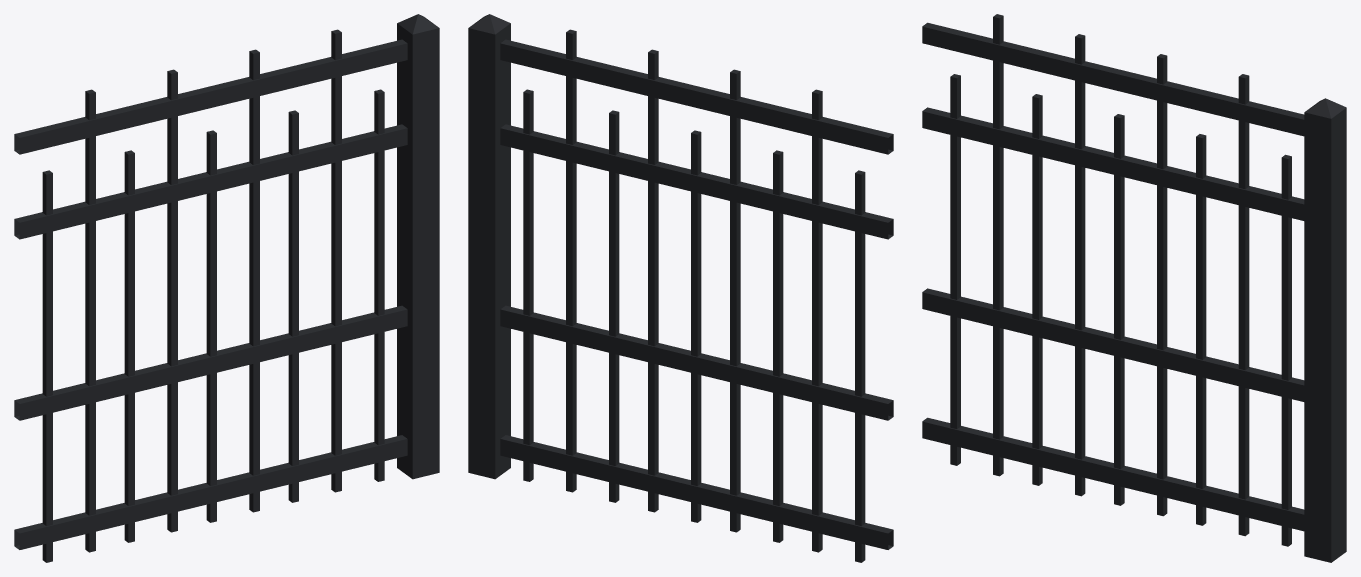
The model's file is Fence_5.fbx.
The picture shows the model from 3 angles, left to right: view 1: azimuth 30°, elevation 25°; view 2: azimuth 150°, elevation 25°; view 3: azimuth 330°, elevation 25°; orthographic projection.
Parts seen in each view (by area): view 1: Fence_5; view 2: Fence_5; view 3: Fence_5.
Part boxes in pixels (x1,y1,x2,y2): Fence_5: [14, 14, 439, 562]; Fence_5: [468, 14, 893, 562]; Fence_5: [922, 14, 1346, 562].
Bounding box in the file's own units: 234 × 247 × 15.22.
